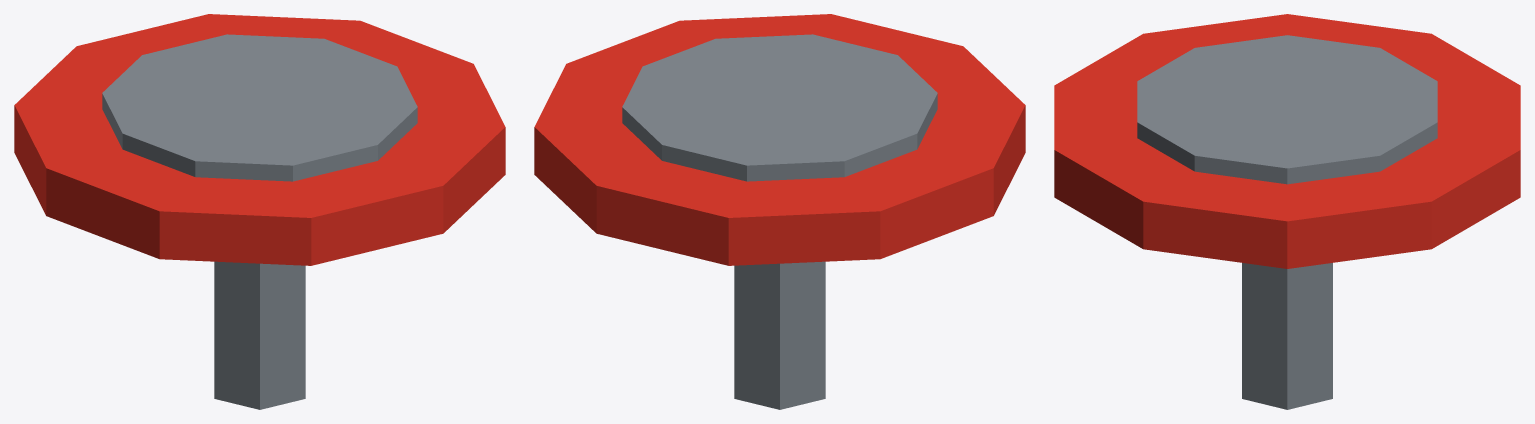
File: pipe_splitter_valve.obj
The picture shows the model from 3 angles, left to right: view 1: azimuth 30°, elevation 25°; view 2: azimuth 150°, elevation 25°; view 3: azimuth 270°, elevation 25°; orthographic projection.
Visible parts, largest first — view 1: Body; view 2: Body; view 3: Body.
Boxes of the visible parts, left/top/right/bottom form: Body: left=14, top=14, right=505, bottom=409; Body: left=534, top=14, right=1025, bottom=409; Body: left=1054, top=14, right=1520, bottom=409.
Bounding box in the file's own units: 0.28 × 0.18 × 0.2662.
